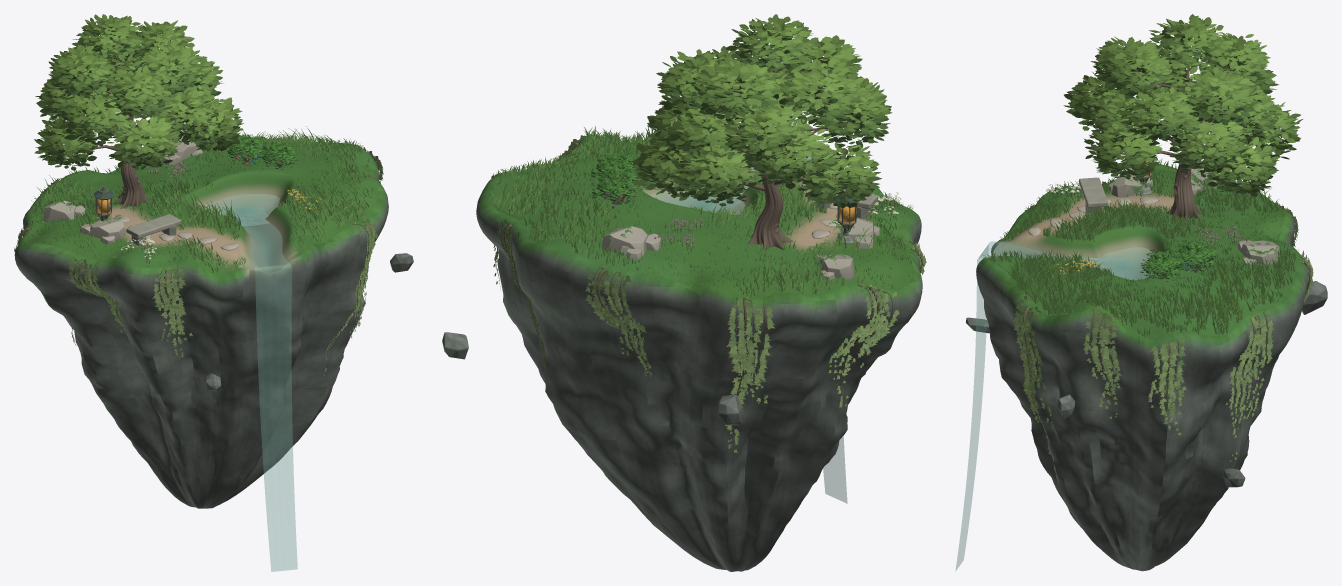
The model's file is tan-may.glb.
3 renders of one model, left to right at view 1: azimuth 30°, elevation 25°; view 2: azimuth 150°, elevation 25°; view 3: azimuth 270°, elevation 25°, orthographic. The views are drawn at different scales.
Parts seen in each view (by area): view 1: Cloud canopy continuous weathered mineral cliff, Cloud canopy meadow and sculpted riverbed, Meadow oak leaves.001, Cloud canopy clustered meadow blades, Cloud canopy round-over falling water, Cloud canopy Lobed ivy curtains, Cloud canopy connected winding outlet, Cloud canopy quiet depth pool, Meadow oak branches.001, Hazel shrub leaves.002, Hazel shrub leaves.001, Old resting bench slab (+4 smaller); view 2: Cloud canopy continuous weathered mineral cliff, Meadow oak leaves.001, Cloud canopy meadow and sculpted riverbed, Cloud canopy clustered meadow blades, Cloud canopy Lobed ivy curtains, Meadow oak branches.001, Cloud canopy Branching ivy stems, Hazel shrub leaves.001, Cloud canopy round-over falling water, Weathered limestone main block.002, Cloud canopy quiet depth pool, Hazel shrub leaves.002 (+5 smaller); view 3: Cloud canopy continuous weathered mineral cliff, Meadow oak leaves.001, Cloud canopy meadow and sculpted riverbed, Cloud canopy clustered meadow blades, Cloud canopy Lobed ivy curtains, Cloud canopy round-over falling water, Meadow oak branches.001, Cloud canopy quiet depth pool, Cloud canopy connected winding outlet, Cloud canopy Branching ivy stems, Hazel shrub leaves.001, Hazel shrub leaves.002 (+6 smaller).
Part boxes in pixels (box(x1,y1,x2,y2)): Cloud canopy continuous weathered mineral cliff: box(14, 135, 388, 508); Cloud canopy meadow and sculpted riverbed: box(24, 135, 378, 275); Meadow oak leaves.001: box(34, 14, 243, 170); Cloud canopy clustered meadow blades: box(26, 126, 376, 272); Cloud canopy round-over falling water: box(254, 264, 297, 571); Cloud canopy Lobed ivy curtains: box(14, 136, 383, 375); Cloud canopy connected winding outlet: box(222, 207, 290, 267); Cloud canopy quiet depth pool: box(202, 194, 279, 226); Meadow oak branches.001: box(80, 51, 207, 208); Hazel shrub leaves.002: box(260, 141, 297, 169); Hazel shrub leaves.001: box(226, 134, 264, 164); Old resting bench slab: box(126, 214, 181, 238); Cloud canopy continuous weathered mineral cliff: box(476, 135, 922, 571); Meadow oak leaves.001: box(633, 14, 892, 208); Cloud canopy meadow and sculpted riverbed: box(489, 135, 913, 299); Cloud canopy clustered meadow blades: box(491, 123, 911, 298); Cloud canopy Lobed ivy curtains: box(491, 135, 926, 452); Meadow oak branches.001: box(699, 49, 852, 250); Cloud canopy Branching ivy stems: box(494, 136, 922, 450); Hazel shrub leaves.001: box(591, 170, 643, 204); Cloud canopy round-over falling water: box(808, 157, 847, 503); Weathered limestone main block.002: box(602, 226, 647, 255); Cloud canopy quiet depth pool: box(650, 187, 744, 214); Hazel shrub leaves.002: box(591, 151, 637, 178); Cloud canopy continuous weathered mineral cliff: box(976, 164, 1308, 571); Meadow oak leaves.001: box(1063, 14, 1302, 196); Cloud canopy meadow and sculpted riverbed: box(985, 165, 1296, 339); Cloud canopy clustered meadow blades: box(987, 166, 1298, 337); Cloud canopy Lobed ivy curtains: box(1013, 181, 1313, 461); Cloud canopy round-over falling water: box(955, 241, 991, 570); Meadow oak branches.001: box(1103, 46, 1261, 220); Cloud canopy quiet depth pool: box(1087, 247, 1154, 279); Cloud canopy connected winding outlet: box(981, 241, 1135, 277); Cloud canopy Branching ivy stems: box(1019, 182, 1310, 457); Hazel shrub leaves.001: box(1174, 239, 1217, 274); Hazel shrub leaves.002: box(1140, 249, 1182, 281).
Size of the model in its own units: 20.57 by 24.98 by 16.79.
12 materials, 2 textured.
